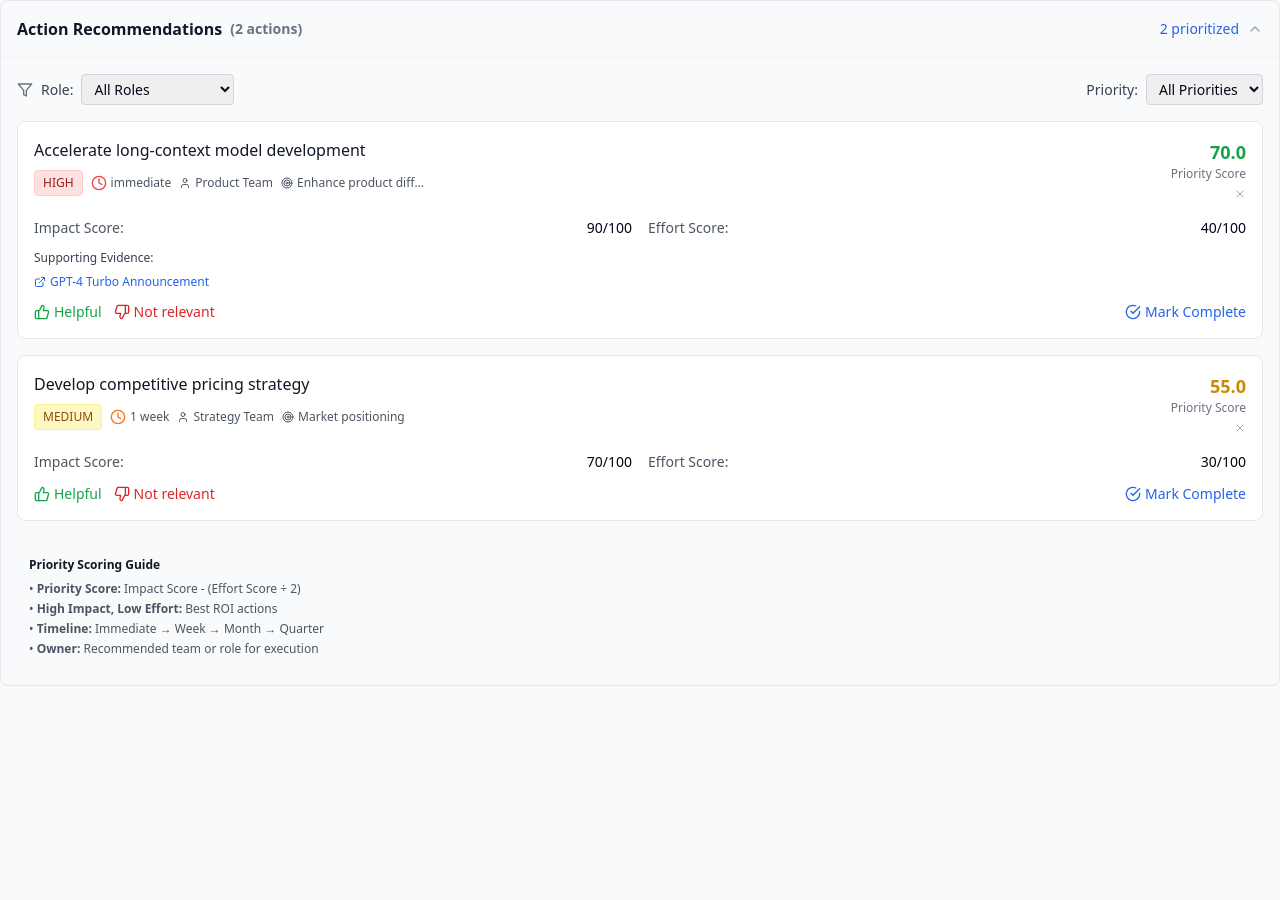
Test: ActionRecommendations Component › dismisses actions
Click the button titled "Dismiss action" below "70.0": (1240, 194) [1234,188,1246,200]
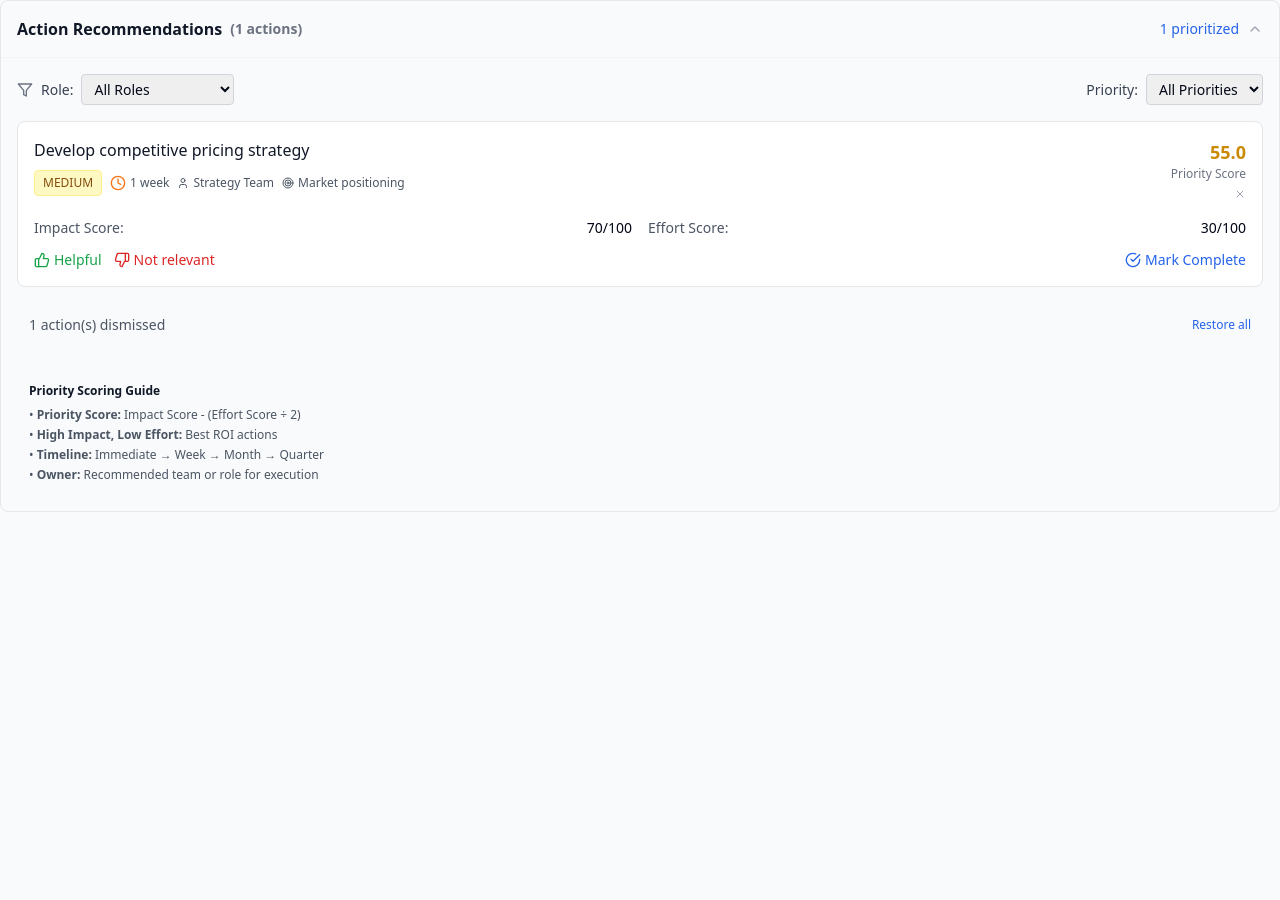
Now the heading "Accelerate long-context model development" is gone
Now the text "1 action(s) dismissed" is shown, box [29,315,165,335]
